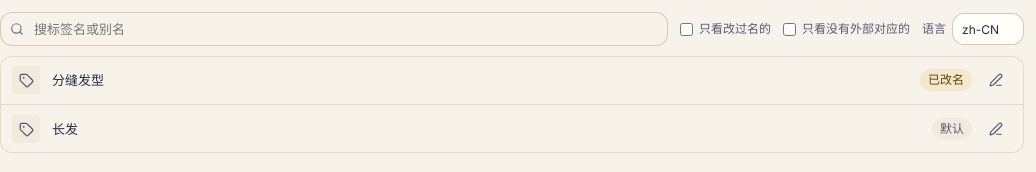
Test case: uses one set of words: renamed/default status and an only-renamed filter
expect the list item with aria-label "分缝发型，已改名" is shown: met, box [0,56,1024,104]
Step 1. Click the checkbox labelled "只看改过名的" → (686, 29), box [680,22,693,36]
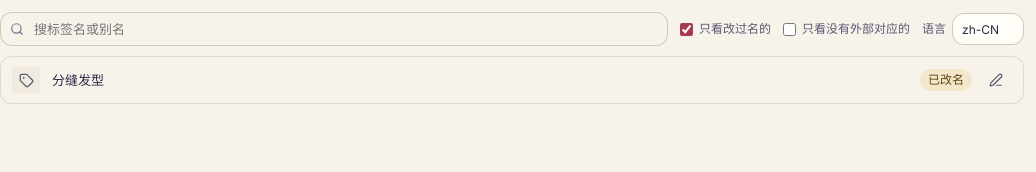
expect the list item "长发，默认" is gone: met
